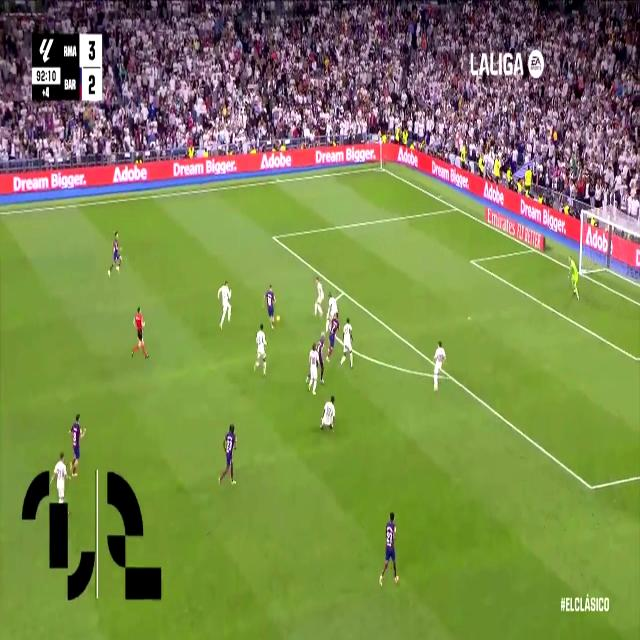bigarea_bottom_inner: (586, 473, 596, 500)
bigarea_top_inner: (270, 228, 278, 245)
bigarea_top_outter: (452, 200, 460, 214)
corner: (376, 161, 386, 173)
smallarea_top_inner: (468, 253, 476, 268)
top_arc_area_intersection: (339, 282, 348, 299)
